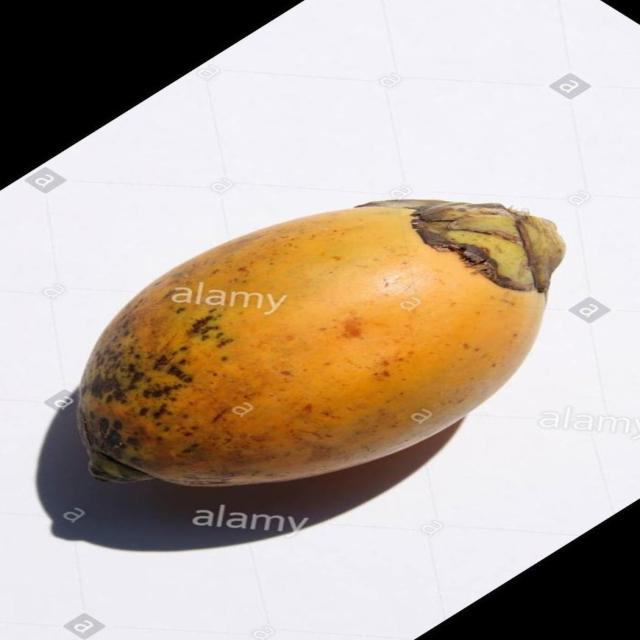good: (73, 200, 566, 491)
